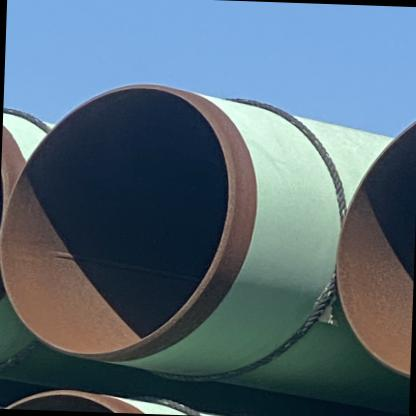clean: (210, 239, 253, 276)
